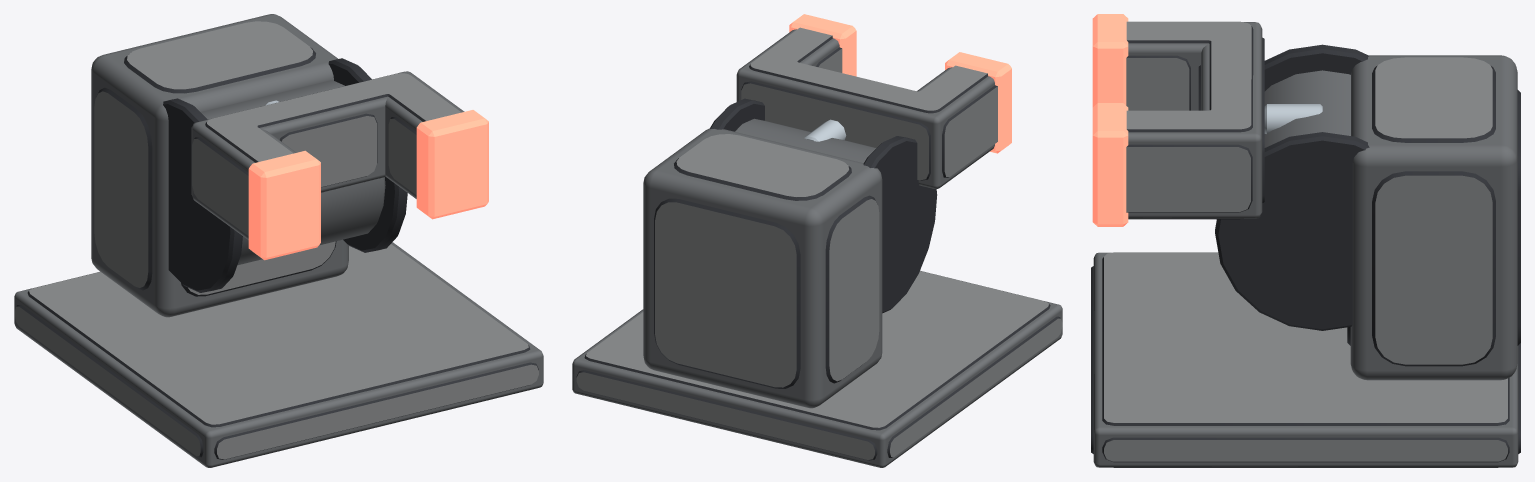
File: R4X_MagneticGrapple.glb
The picture shows the model from 3 angles, left to right: view 1: azimuth 30°, elevation 25°; view 2: azimuth 150°, elevation 25°; view 3: azimuth 270°, elevation 25°; orthographic projection. The views are drawn at different scales.
Parts seen in each view (by area): view 1: R4X_MagneticGrapple_Body; view 2: R4X_MagneticGrapple_Body; view 3: R4X_MagneticGrapple_Body.
Part boxes in pixels (left/top/right/bottom): R4X_MagneticGrapple_Body: left=14, top=14, right=543, bottom=467; R4X_MagneticGrapple_Body: left=572, top=14, right=1062, bottom=467; R4X_MagneticGrapple_Body: left=1091, top=14, right=1520, bottom=467.
Bounding box in the file's own units: 0.52 × 0.414 × 0.52.
